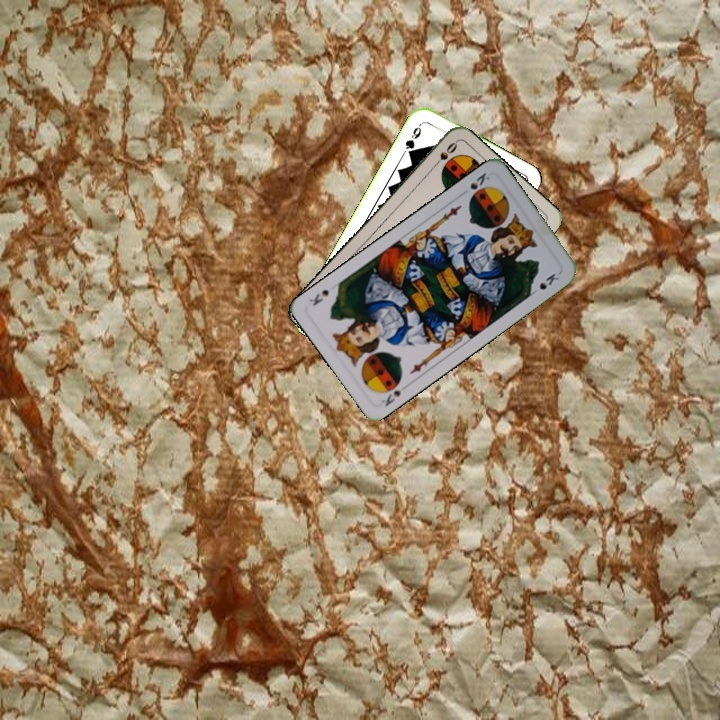G9: (401, 119, 425, 158)
SK: (377, 376, 411, 409), (466, 168, 492, 192)
SO: (428, 138, 460, 171)
